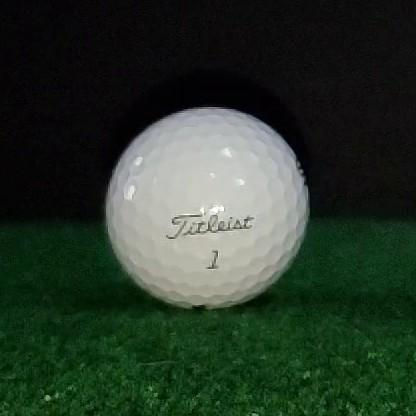golfball: (106, 109, 309, 308)
